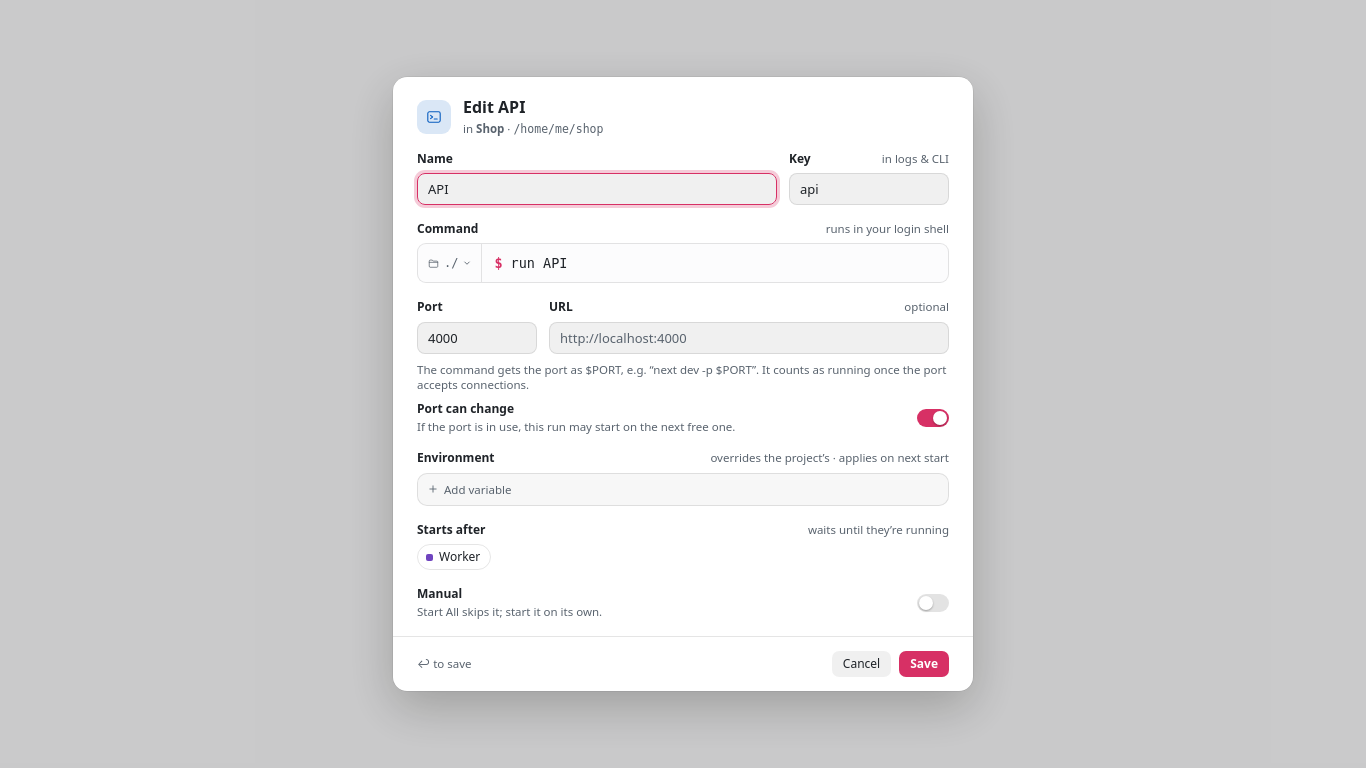
Sheets › keeps the sheet open with the core's message when saving fails
Replace the text in the field labelled "Key" with "My App" at {"x": 869, "y": 189}, box left=789, top=173, right=949, bottom=205
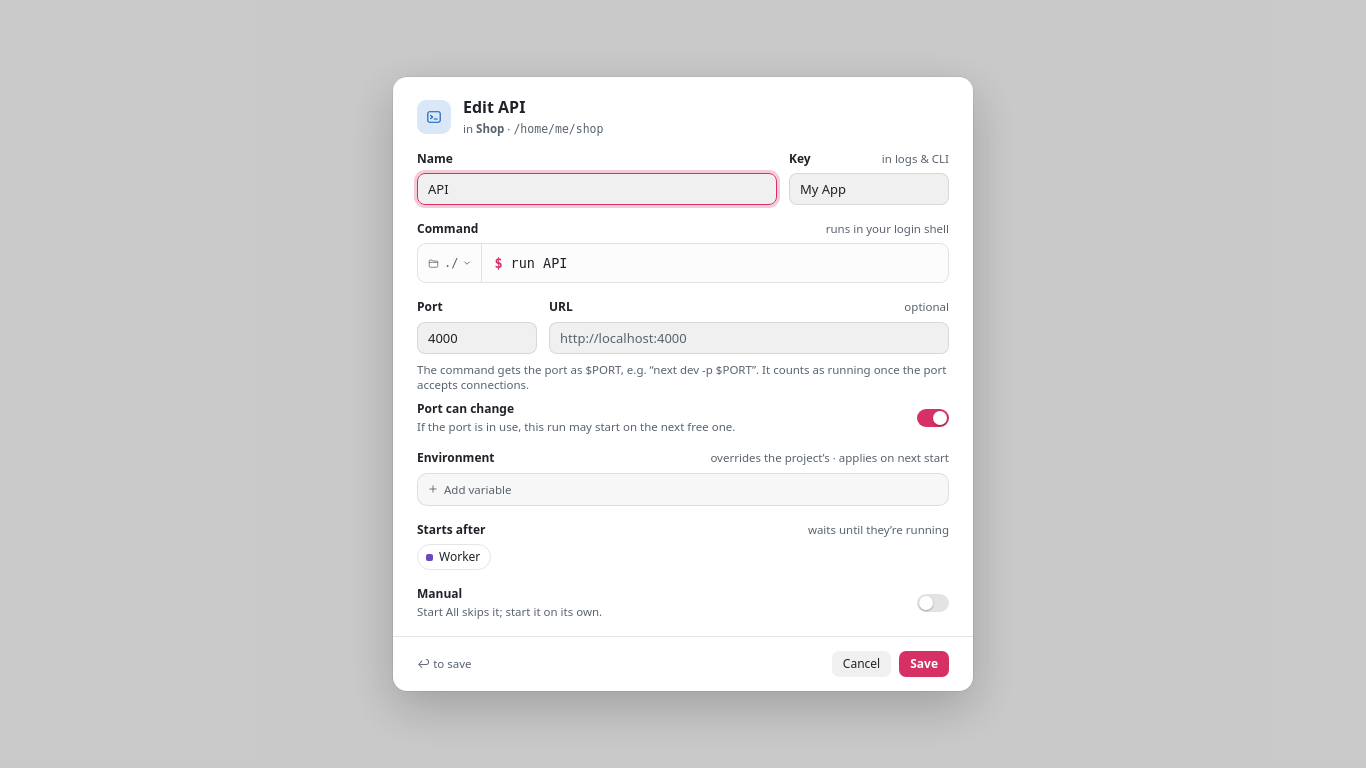
Click the button "Save" at {"x": 924, "y": 664}, box left=899, top=651, right=949, bottom=677
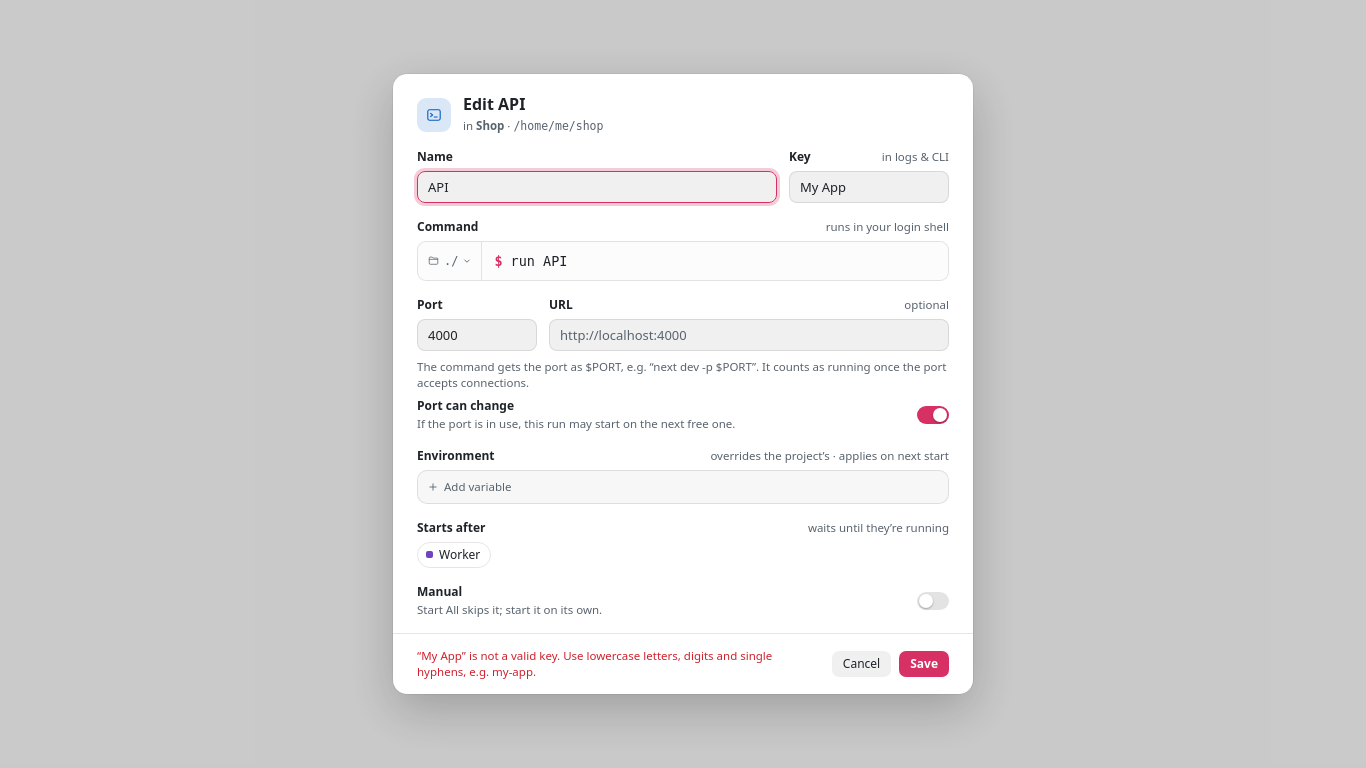
Result: the message shows "“My App” is not a valid key. Use lowercase letters, digits and single hyphens, e.g. my-app." at left=417, top=648, right=772, bottom=679
